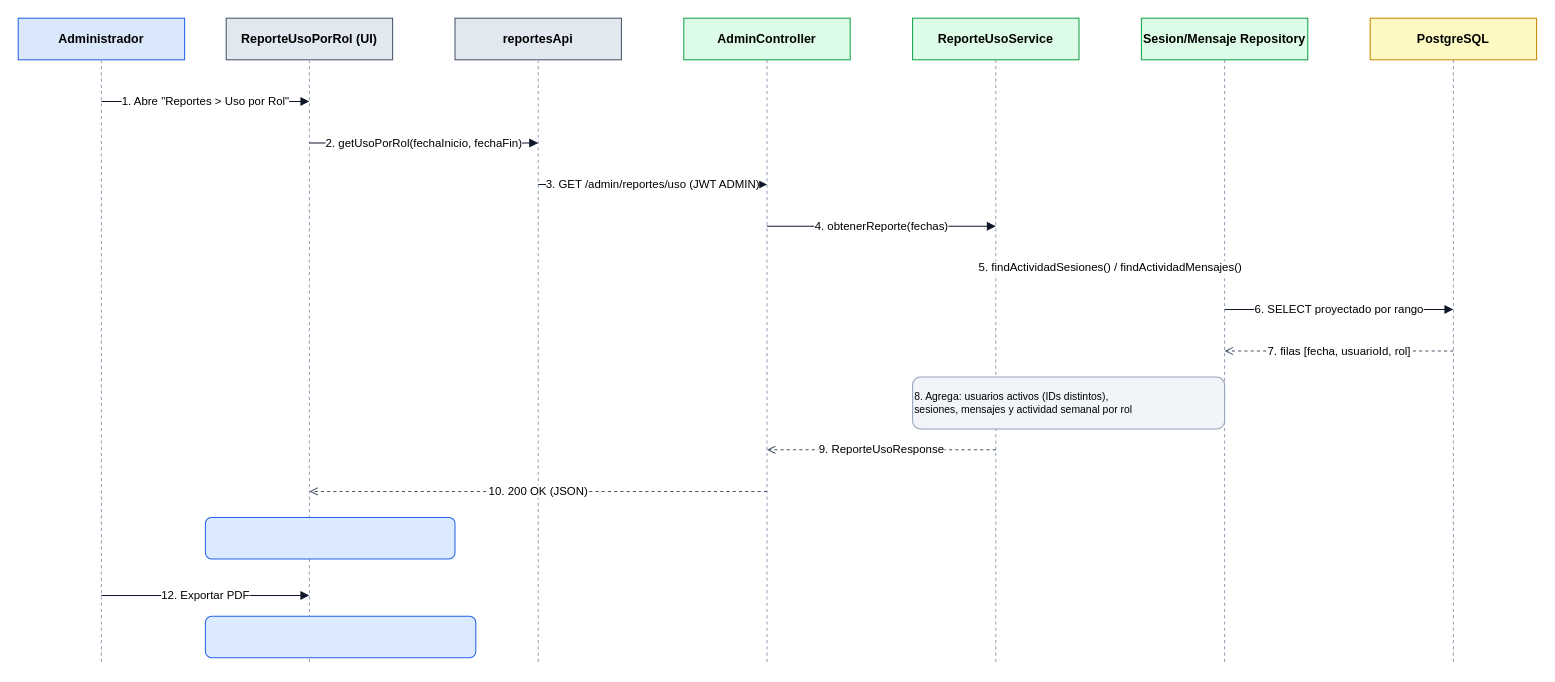
Image size: 1555x682. Some labels were removed from this diagram. The box of each missing label's shape, as (x1, y1, x2, y2) in pixels:
11. Render: tarjetas + gráfico SVG + tabla: (204, 516, 455, 559)
13. exportarReportePdf() → descarga PDF: (204, 615, 476, 658)
